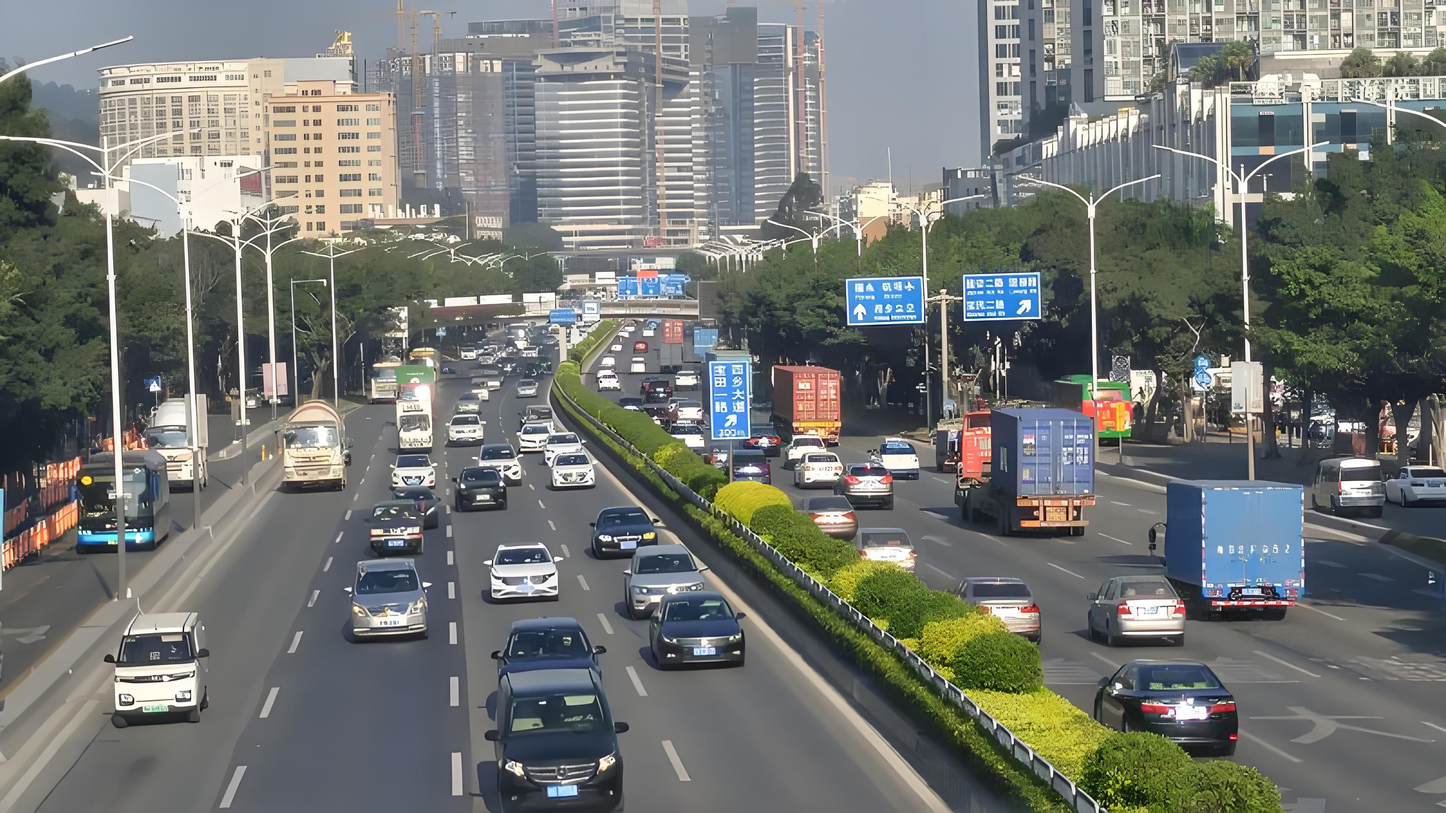bus: (72, 462, 194, 559)
car: (478, 681, 648, 813), (1094, 650, 1262, 764), (114, 607, 221, 734), (640, 587, 761, 674), (1081, 567, 1195, 645), (939, 577, 1046, 654), (348, 558, 442, 644), (480, 544, 574, 616), (620, 543, 713, 609), (577, 493, 669, 559), (865, 430, 948, 502), (850, 526, 936, 578), (839, 463, 905, 523), (369, 491, 431, 552), (788, 495, 864, 540), (453, 468, 515, 519), (796, 445, 861, 491), (542, 449, 594, 502), (723, 443, 772, 495), (470, 445, 525, 491), (391, 451, 441, 499), (525, 400, 573, 442), (539, 433, 587, 467), (447, 410, 484, 449), (669, 423, 705, 458), (519, 420, 553, 454), (456, 391, 485, 427), (598, 367, 621, 390)
truck: (1152, 458, 1330, 612), (953, 398, 1101, 552), (263, 399, 352, 500), (762, 360, 846, 449), (147, 399, 221, 499), (392, 384, 444, 451)
